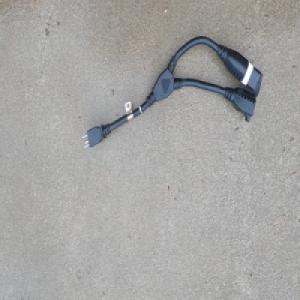Wire: (80, 34, 263, 152)
